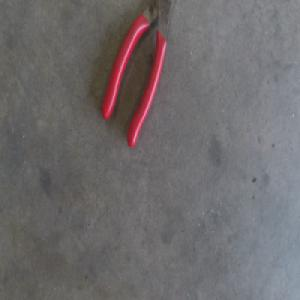Pliers: (101, 0, 172, 148)
